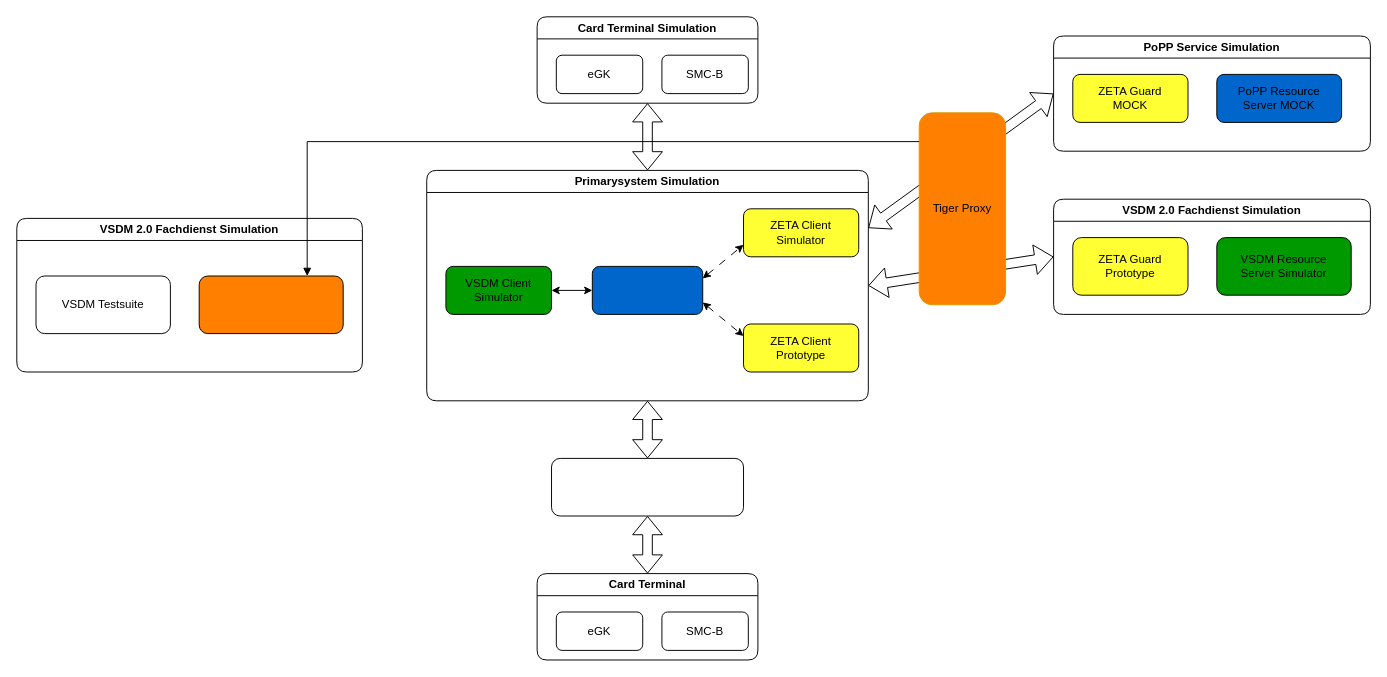
The diagram is 1387 pixels wide and 677 high, and some of its shapes have lost their labels. Each missing label, with the centre of its shape:
Konnektor: the point at 647,486
PoPP Client Simulator: the point at 647,289
Tiger Framework: the point at 270,304
